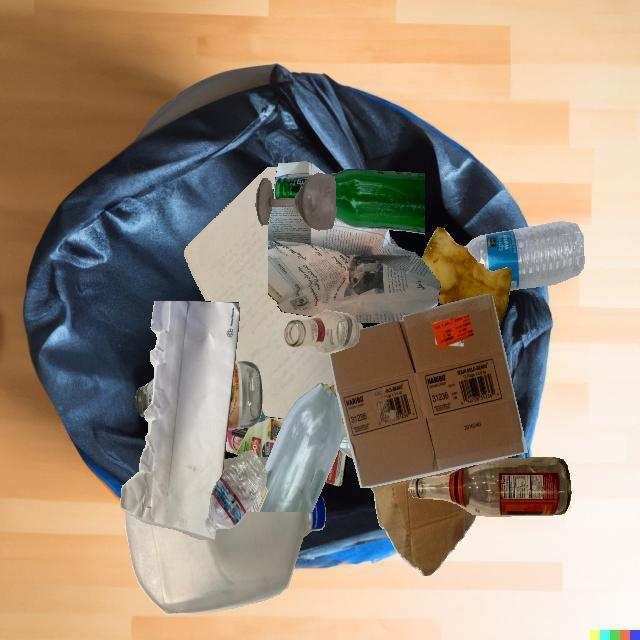biowaste: (421, 227, 512, 326)
cardboard: (329, 294, 528, 487), (370, 468, 476, 576), (390, 236, 398, 246)
glass: (248, 383, 342, 512), (408, 457, 571, 516), (326, 169, 425, 234), (256, 173, 336, 230), (284, 310, 360, 354), (227, 361, 262, 430), (338, 413, 353, 459)
paper: (184, 167, 334, 419), (120, 301, 240, 540), (268, 207, 441, 323), (225, 361, 295, 458), (295, 393, 337, 453), (325, 449, 347, 487)
plastic: (125, 510, 288, 614), (465, 221, 584, 290), (205, 450, 267, 533)
